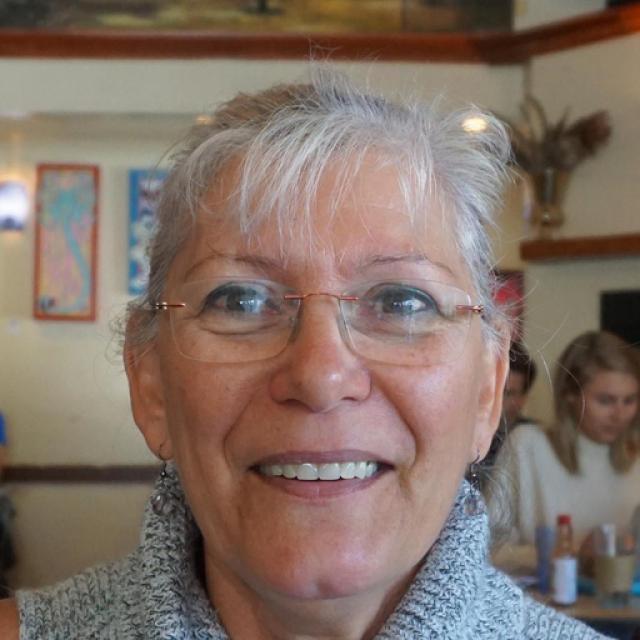Puffy Eyes - v3 Dark Circle: (194, 314, 276, 342), (364, 322, 440, 342)
